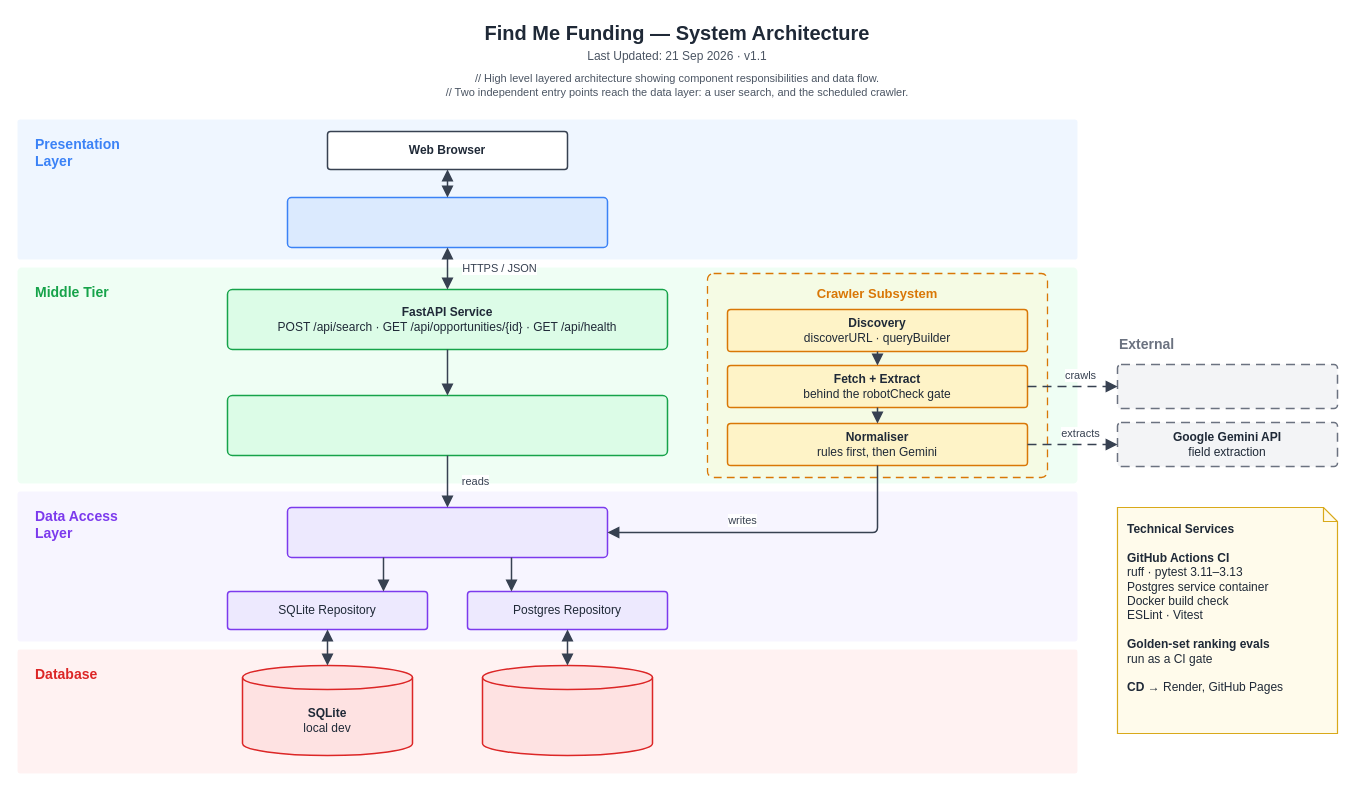
This 1355x790 diagram has some shape labels left out. The centre of each missing label's shape, as x and y in pixels:
"Funder Websites robots.txt respected" goes at point 1227,386.
"OpportunityRepository all() · get()" goes at point 447,532.
"Ranking Engine eligibility · deadline · funding value · research match · weights" goes at point 447,425.
"React + TypeScript SPA (Vite) Home · Results · fundingService" goes at point 447,222.
"Supabase Postgres deployed" goes at point 567,710.
